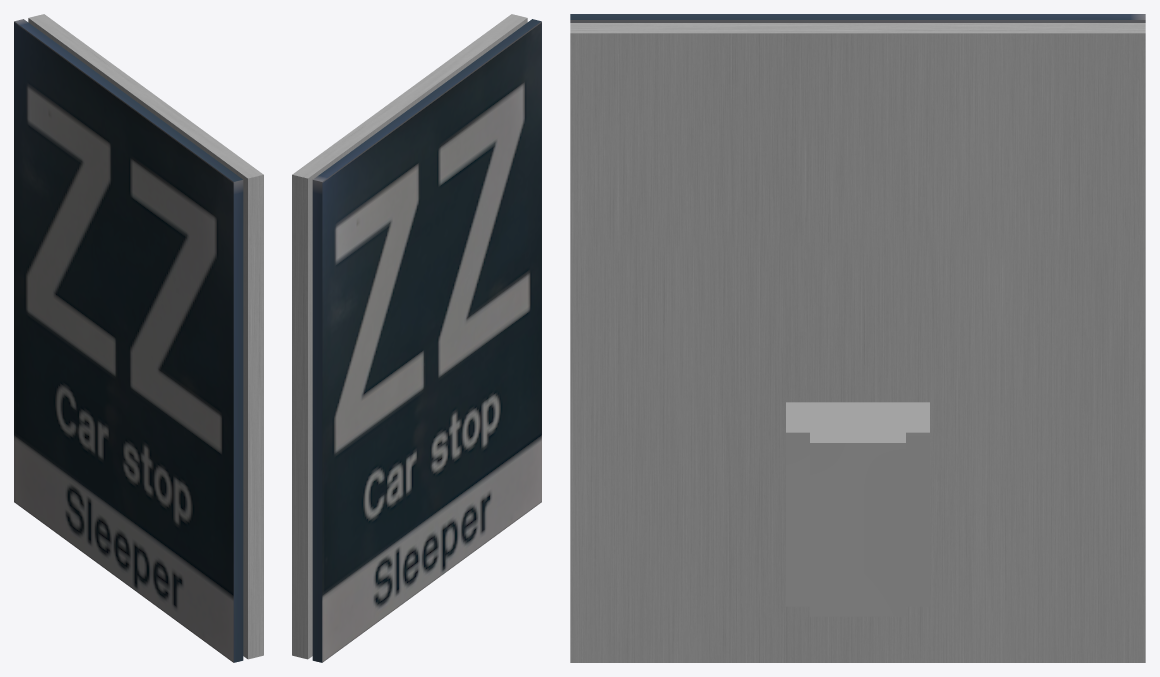
The model's file is sleeper_car_stop.obj.
3 renders of one model, left to right at view 1: azimuth 30°, elevation 25°; view 2: azimuth 150°, elevation 25°; view 3: azimuth 270°, elevation 25°, orthographic. The views are drawn at different scales.
Visible parts, largest first — view 1: cube; view 2: cube; view 3: cube.
Part boxes in pixels (left/top/right/bottom): cube: left=14, top=14, right=263, bottom=662; cube: left=292, top=14, right=541, bottom=662; cube: left=570, top=14, right=1145, bottom=662.
Bounding box in the file's own units: 0.0922 × 0.4531 × 0.375.
2 materials, 2 textured.
